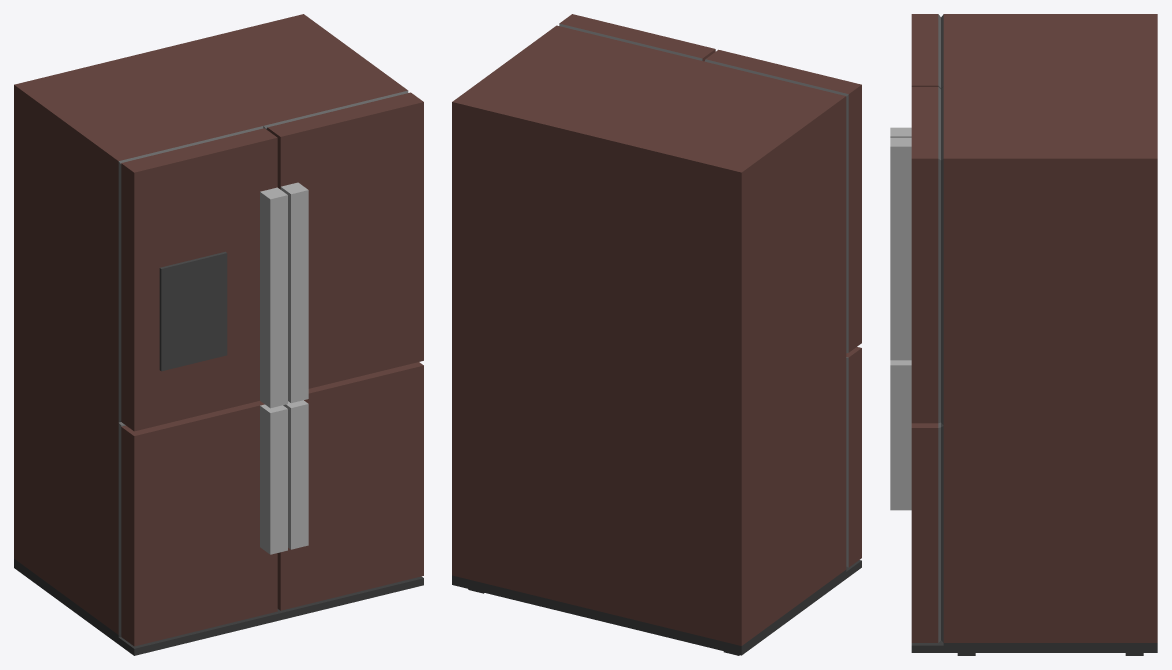
The model's file is Refrigerator18.fbx.
3 views of the same model, side by side, from view 1: azimuth 30°, elevation 25°; view 2: azimuth 150°, elevation 25°; view 3: azimuth 270°, elevation 25° (orthographic). The views are drawn at different scales.
Visible parts, largest first — view 1: Cube; view 2: Cube; view 3: Cube.
Boxes of the visible parts, x1,y1,x2,y2 form: Cube: (14, 14, 423, 655); Cube: (452, 14, 861, 655); Cube: (890, 14, 1157, 655).
Size of the model in its own units: 1.76 by 2.85 by 1.37.
